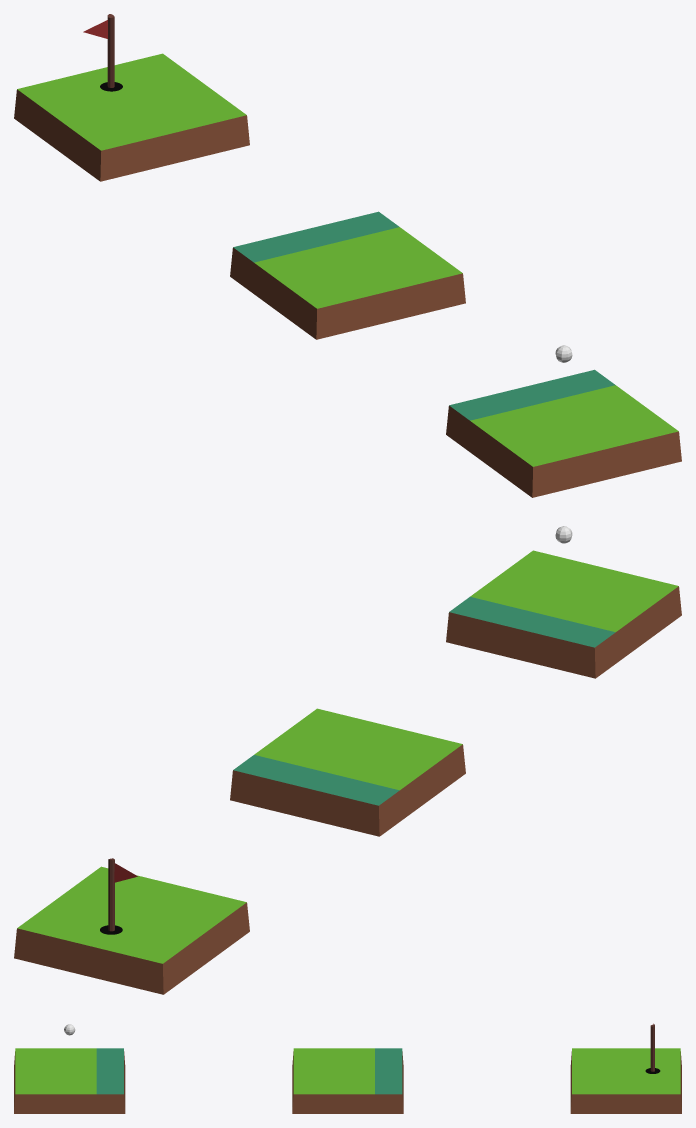
File: level2.glb
3 renders of one model, top to bottom at view 1: azimuth 30°, elevation 25°; view 2: azimuth 150°, elevation 25°; view 3: azimuth 270°, elevation 25°, orthographic. The views are drawn at different scales.
Visible parts, largest first — view 1: basic-moveable.001, basic-moveable, basic-fixed.001, flag; view 2: basic-moveable.001, basic-moveable, basic-fixed.001, flag; view 3: basic-moveable, basic-moveable.001, basic-fixed.001, flag.
Part boxes in pixels (<box>): basic-moveable.001: <box>446,369,681,497</box>; basic-moveable: <box>230,211,465,339</box>; basic-fixed.001: <box>14,53,249,181</box>; flag: <box>83,14,122,91</box>; basic-moveable.001: <box>446,550,681,678</box>; basic-moveable: <box>230,708,465,836</box>; basic-fixed.001: <box>14,866,249,994</box>; flag: <box>100,858,137,934</box>; basic-moveable: <box>292,1048,403,1113</box>; basic-moveable.001: <box>14,1048,125,1113</box>; basic-fixed.001: <box>570,1048,681,1113</box>; flag: <box>645,1023,660,1073</box>.
Size of the model in its own units: 2 by 1.3 by 12.
4 materials, 4 textured.
